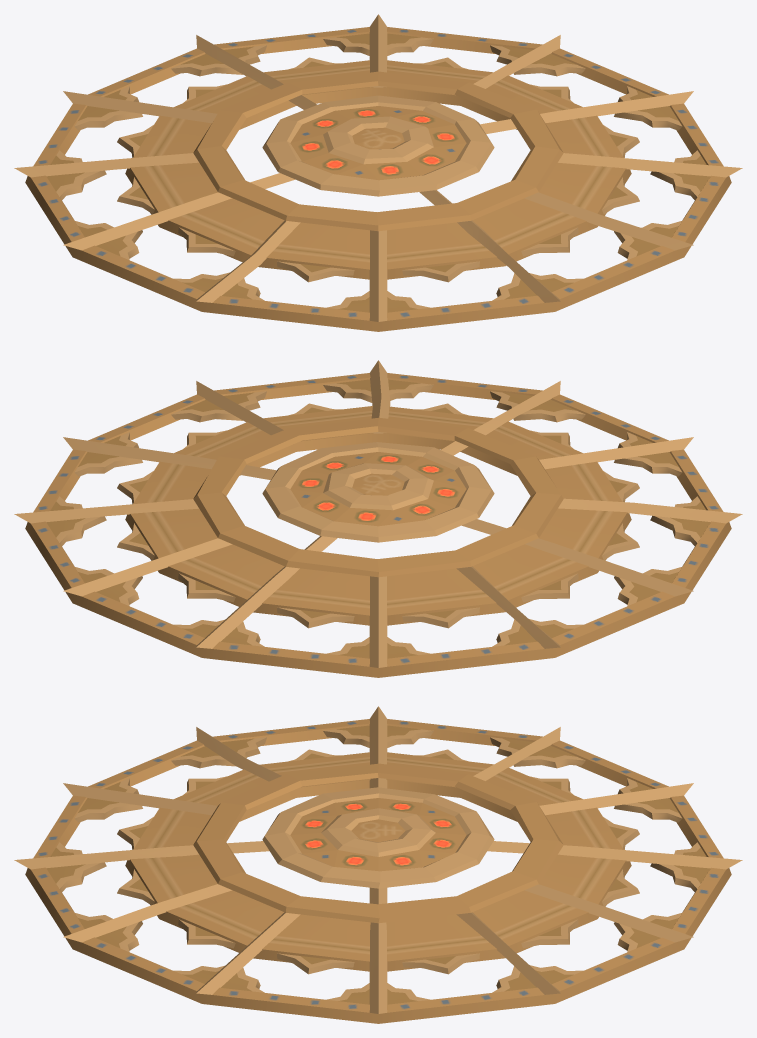
The model's file is crypt_relief.gltf.
3 renders of one model, top to bottom at view 1: azimuth 30°, elevation 25°; view 2: azimuth 150°, elevation 25°; view 3: azimuth 270°, elevation 25°, orthographic.
Visible parts, largest first — view 1: crypt_relief; view 2: crypt_relief; view 3: crypt_relief.
Boxes of the visible parts, x1=… form: crypt_relief: x1=14, y1=14, x2=742, y2=331; crypt_relief: x1=14, y1=360, x2=742, y2=677; crypt_relief: x1=14, y1=706, x2=742, y2=1023.
Size of the model in its own units: 2.03 by 0.1421 by 2.03.
Materials: 1 (1 with a texture image).
